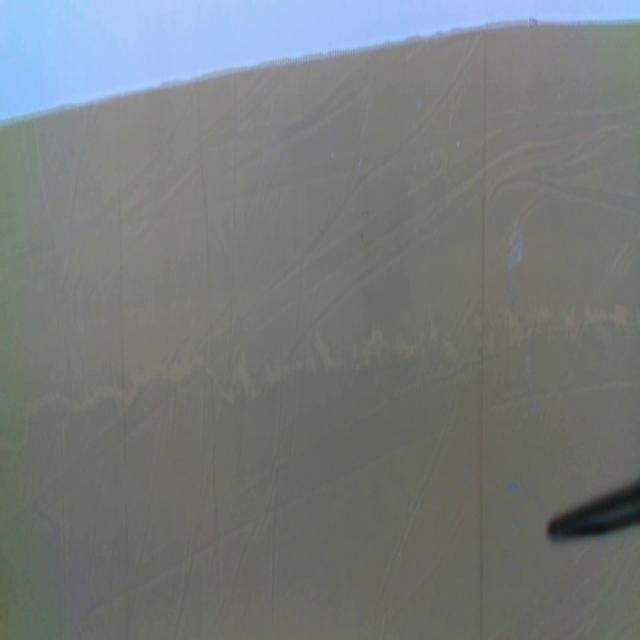color bleeding: (1, 290, 640, 447)
crease: (478, 43, 489, 640), (116, 189, 129, 460), (195, 107, 212, 290)
